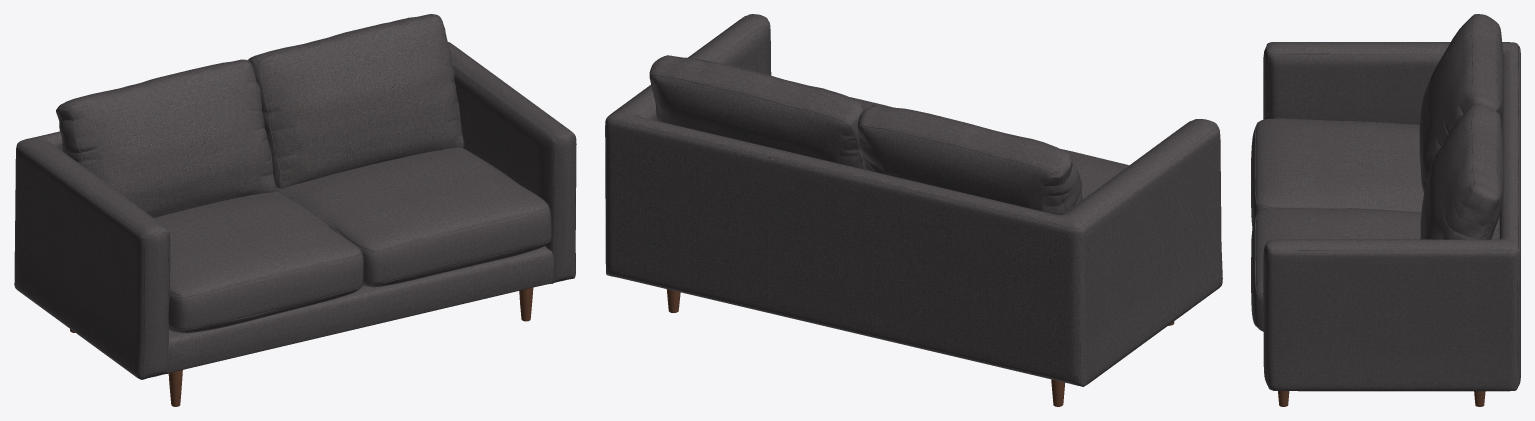
File: abo-B07BWJCPTC.glb
3 renders of one model, left to right at view 1: azimuth 30°, elevation 25°; view 2: azimuth 150°, elevation 25°; view 3: azimuth 270°, elevation 25°, orthographic. The views are drawn at different scales.
Bounding box in the file's own units: 1.71 × 0.866 × 0.9397.
Materials: 1 (1 with a texture image).
